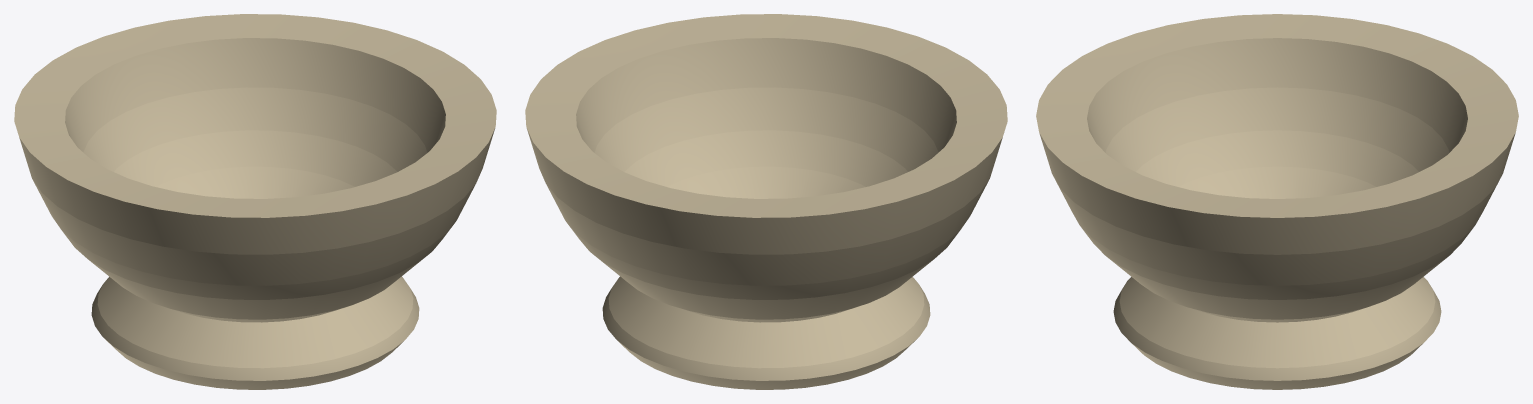
File: fire_pot 1.fbx
3 views of the same model, side by side, from view 1: azimuth 30°, elevation 25°; view 2: azimuth 150°, elevation 25°; view 3: azimuth 270°, elevation 25° (orthographic).
Visible parts, largest first — view 1: fire_pot; view 2: fire_pot; view 3: fire_pot.
Part boxes in pixels (x1,y1,x2,y2): fire_pot: (14, 14, 496, 389); fire_pot: (525, 14, 1007, 389); fire_pot: (1036, 14, 1518, 389).
Size of the model in its own units: 3.77 by 1.82 by 3.77.
